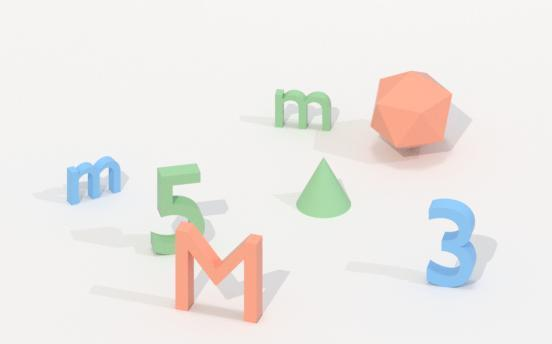chu_khoi: (175, 222, 262, 322), (66, 156, 120, 204), (275, 89, 331, 130)
da_giac: (371, 71, 451, 148)
non: (296, 159, 350, 217)
so_khoi: (426, 199, 475, 286)
